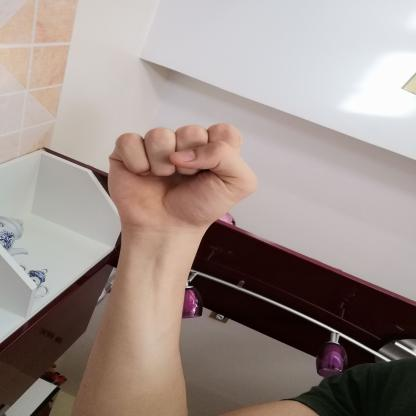SAD: (93, 115, 265, 238)
